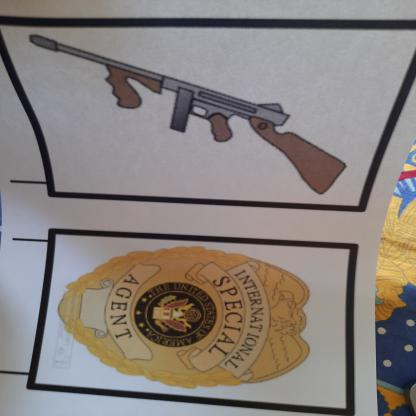Bootlegger: (24, 29, 372, 207)
G-man: (44, 240, 334, 402)
